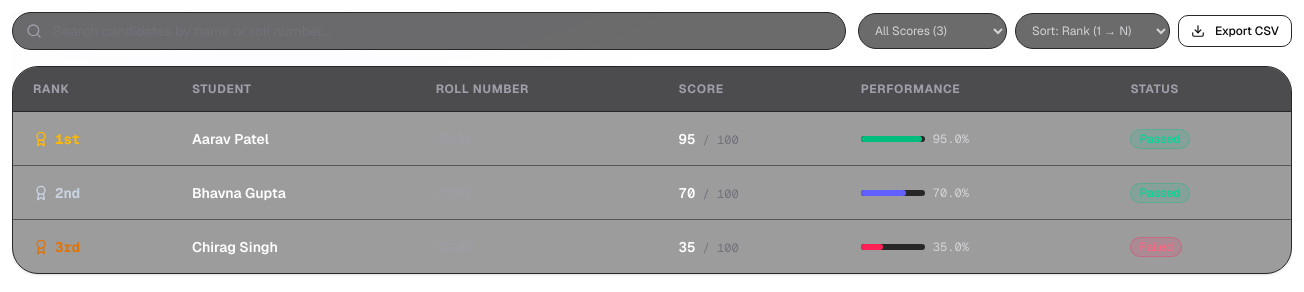
Test case: Component: ExamResultsTable › filters students based on search input
This screenshot has width=1304, height=292.
Type "Aarav" into the field with placeholder "Search candidates by name or roll number..." at (429, 31), box [12,12,846,50]
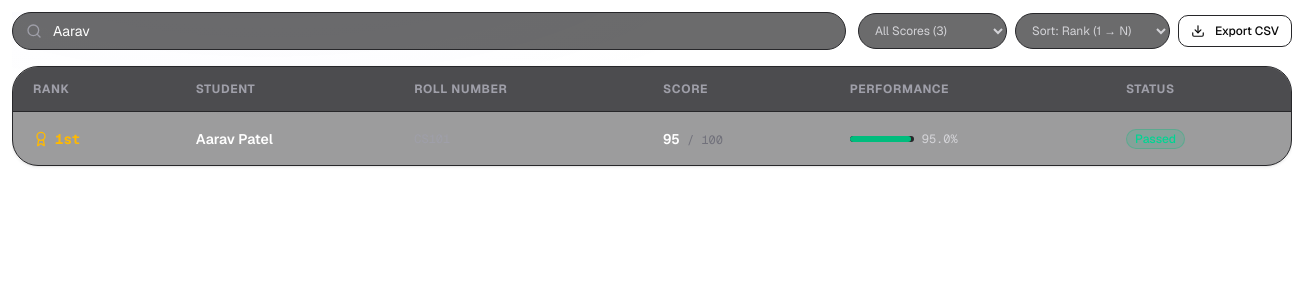
Expected: the text "Aarav Patel" is shown, [196,130,273,148]
Expected: the text "Bhavna Gupta" is gone
